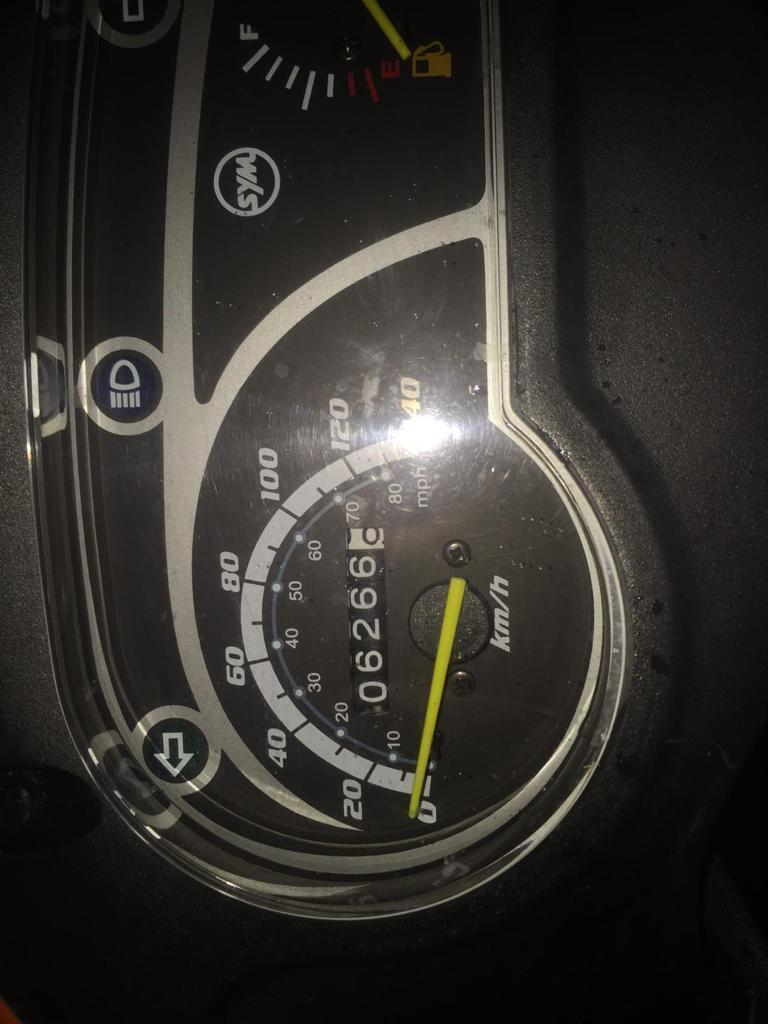0: (356, 679, 392, 704)
2: (349, 617, 387, 642)
6: (346, 555, 382, 577), (351, 650, 385, 672), (350, 586, 379, 609)
9: (361, 527, 389, 546)
odometer: (345, 525, 402, 716)
